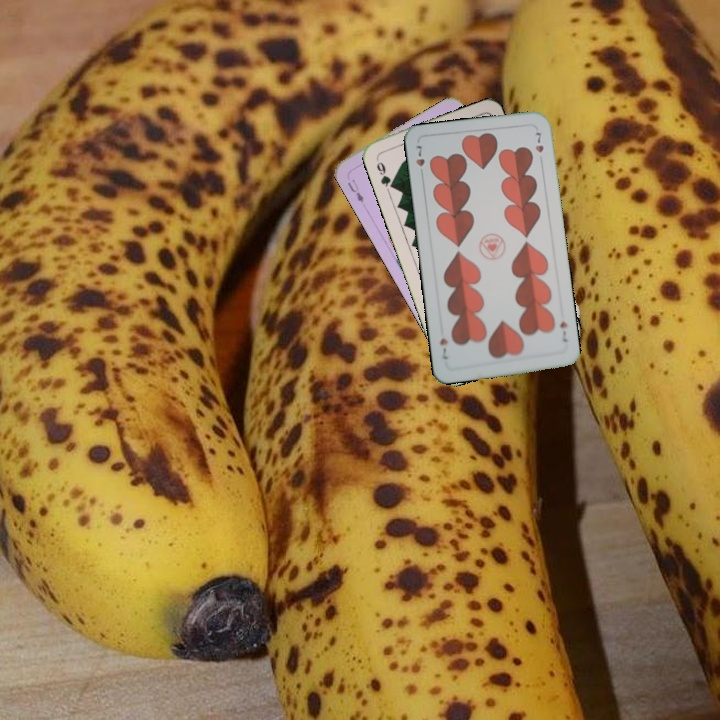EU: (343, 175, 366, 206)
G9: (372, 153, 397, 191)
H7: (412, 141, 427, 180), (556, 318, 570, 344)
